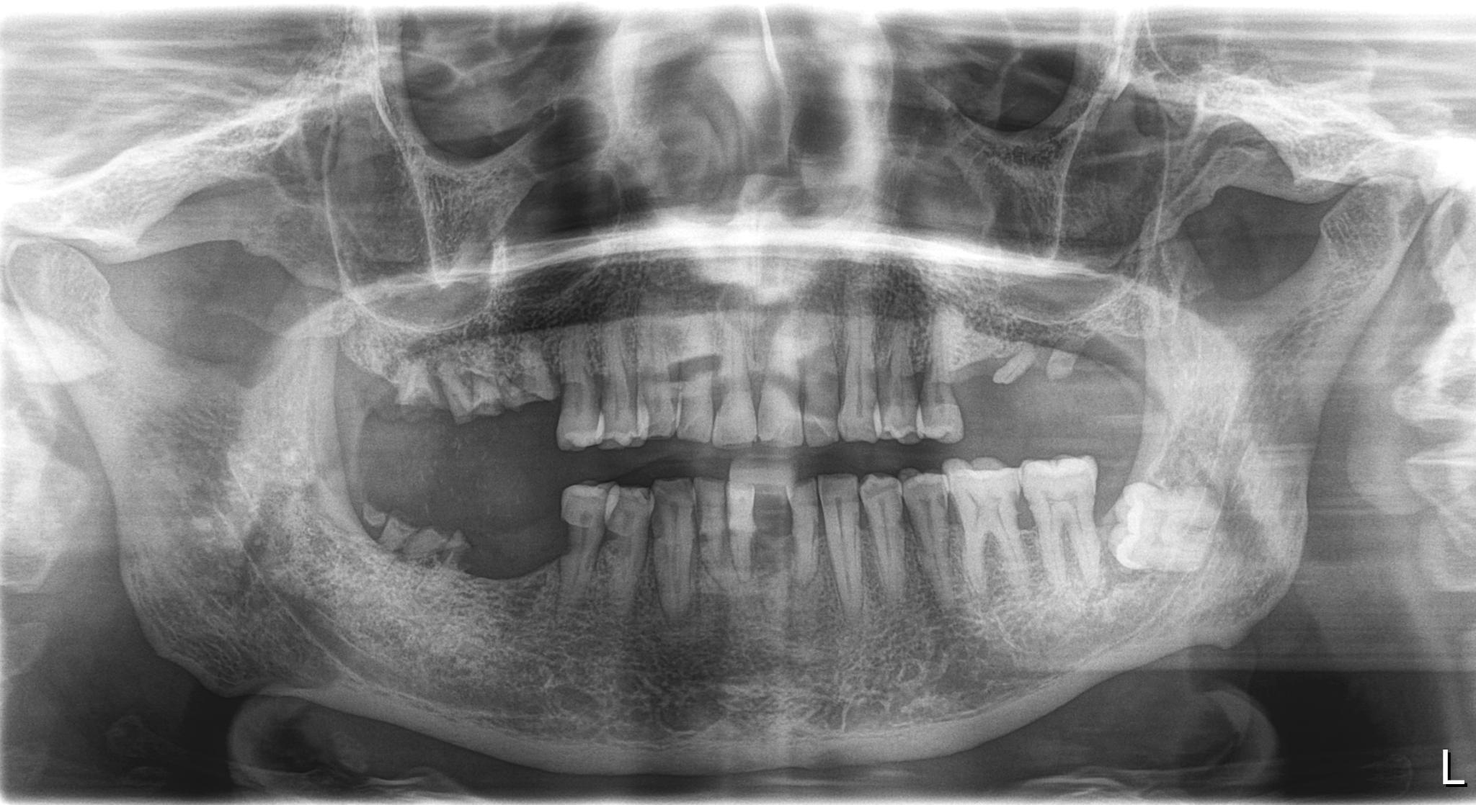Attrition: (557, 475, 913, 535)
Dental Caries: (643, 356, 730, 383)
Endodontically Treated Tooth: (724, 454, 802, 594)
Impacted Third Molar: (1119, 482, 1222, 567)
Missing Tooth: (319, 322, 384, 446), (1072, 306, 1135, 416), (508, 500, 561, 598), (458, 499, 508, 596), (946, 333, 979, 417)
Periapical Lesion: (562, 520, 968, 613)
Retained Root: (499, 329, 544, 414), (980, 322, 1027, 401), (389, 353, 429, 424), (1034, 329, 1073, 397), (429, 509, 462, 581), (452, 351, 485, 421), (377, 495, 409, 561), (407, 509, 436, 573), (353, 493, 384, 552)
